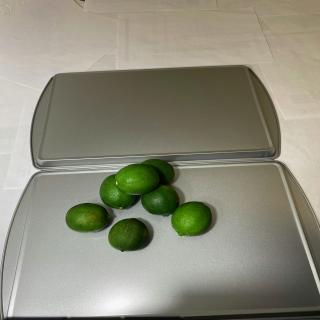Chilli: (65, 158, 213, 252)
Lemon: (171, 201, 212, 237), (114, 163, 160, 195), (108, 218, 148, 252), (65, 203, 110, 233), (99, 174, 136, 210), (140, 184, 180, 217), (140, 158, 175, 185)
